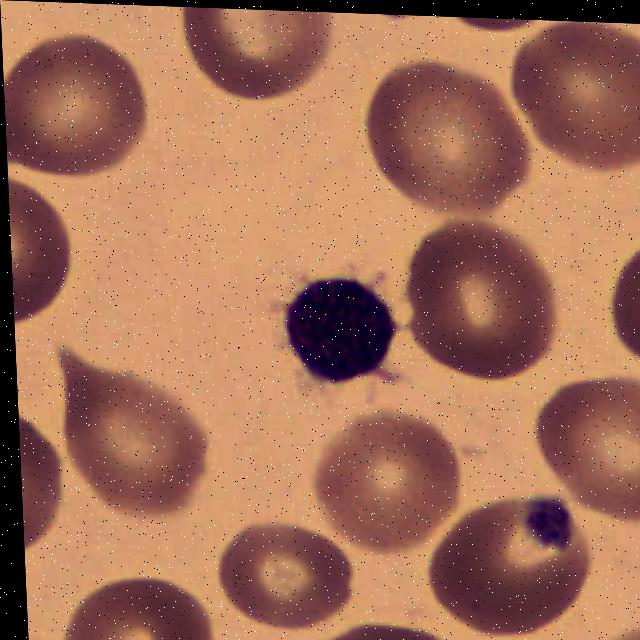platelets: (273, 272, 404, 384), (522, 497, 580, 551)
rbc: (353, 51, 544, 226), (50, 345, 224, 524), (300, 407, 478, 558), (400, 218, 560, 385), (2, 35, 149, 178), (504, 24, 640, 178), (212, 505, 360, 633), (177, 7, 337, 115), (425, 527, 569, 640), (536, 371, 640, 525), (55, 559, 230, 640), (7, 168, 91, 336), (18, 404, 72, 560), (610, 240, 640, 394), (301, 617, 467, 640), (429, 16, 558, 34), (574, 610, 640, 640)
